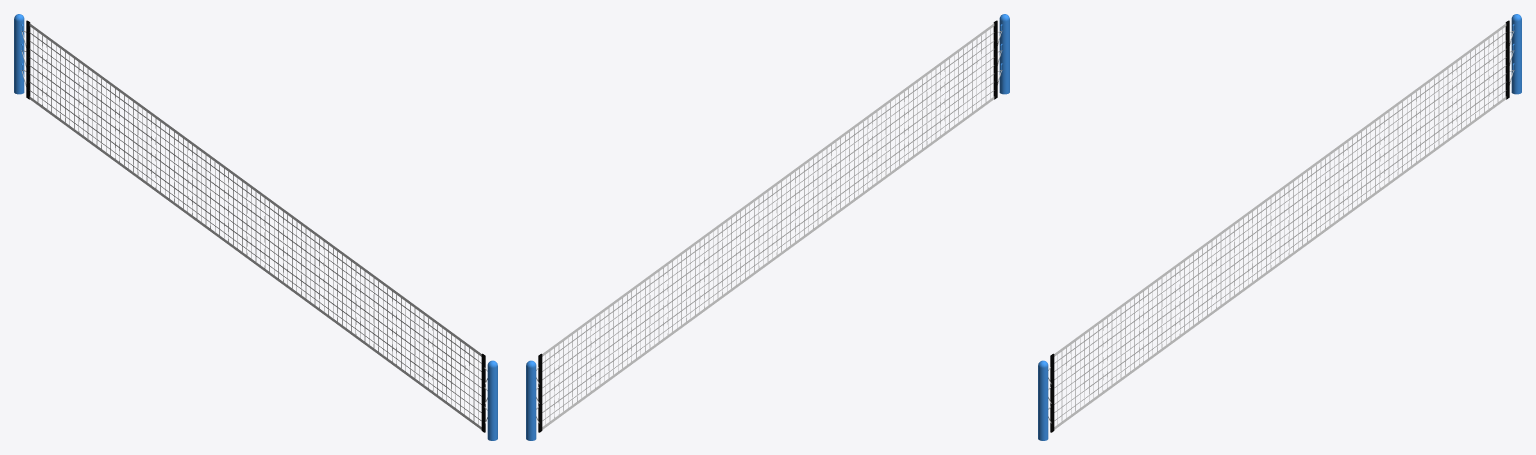
File: Net.fbx
3 renders of one model, left to right at view 1: azimuth 30°, elevation 25°; view 2: azimuth 150°, elevation 25°; view 3: azimuth 330°, elevation 25°, orthographic.
Parts seen in each view (by area): view 1: Net, NetEdgeTop, NetEdgeBottom, PoleLeft, PoleRight; view 2: Net, NetEdgeTop, NetEdgeBottom, PoleRight, PoleLeft; view 3: Net, NetEdgeTop, NetEdgeBottom, PoleLeft, PoleRight.
Part boxes in pixels (bbox=[...]): Net: bbox=[29, 29, 481, 424]; NetEdgeTop: bbox=[29, 23, 481, 356]; NetEdgeBottom: bbox=[29, 96, 481, 429]; PoleLeft: bbox=[487, 360, 497, 440]; PoleRight: bbox=[14, 14, 24, 94]; Net: bbox=[542, 29, 994, 424]; NetEdgeTop: bbox=[542, 23, 994, 356]; NetEdgeBottom: bbox=[542, 96, 994, 429]; PoleRight: bbox=[526, 360, 536, 440]; PoleLeft: bbox=[999, 14, 1009, 94]; Net: bbox=[1054, 29, 1506, 424]; NetEdgeTop: bbox=[1054, 23, 1506, 356]; NetEdgeBottom: bbox=[1054, 96, 1506, 429]; PoleLeft: bbox=[1038, 360, 1048, 440]; PoleRight: bbox=[1511, 14, 1521, 94].
Size of the model in its own units: 0.0511 by 0.4251 by 4.74.
